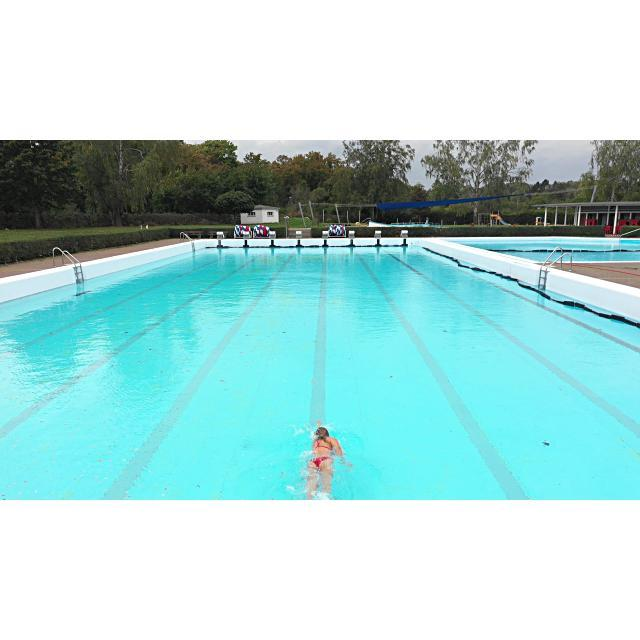human: (308, 421, 352, 500)
